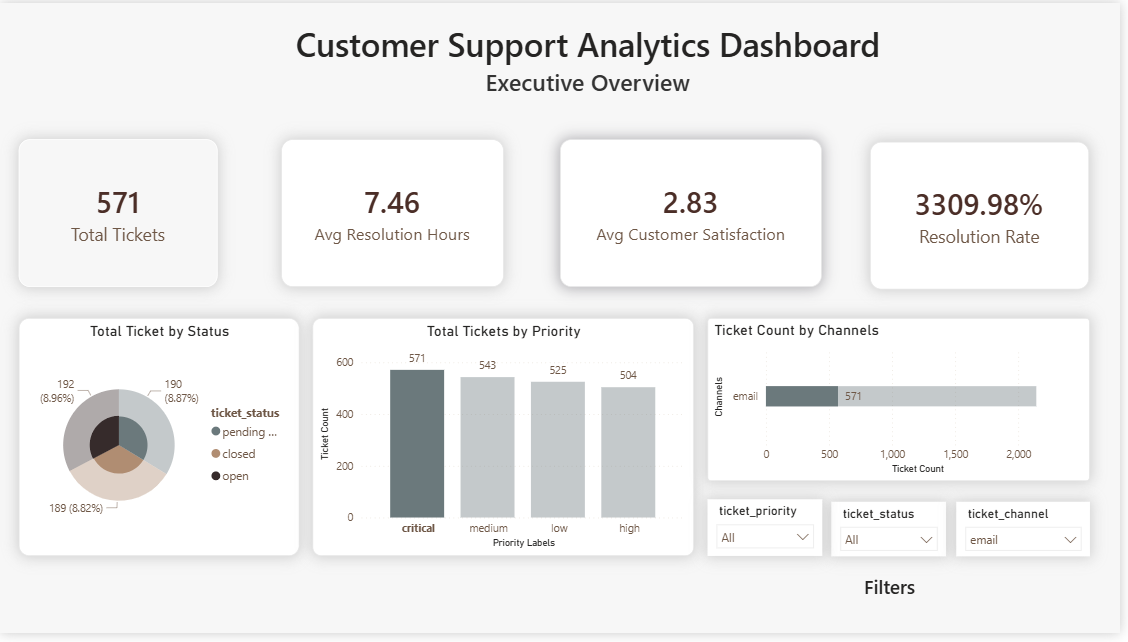

This screenshot's page, from the dashboard's own definition file:
{"tool":"powerbi","page":{"name":"Executive Overview","canvas":[1280,720],"ordinal":0},"visuals":[{"type":"cardVisual","fields":{"Data":["CountNonNull(warehouse fact_support_tickets.ticket_id)"]},"box":[21.7,155.6,227.4,169.2],"z":0},{"type":"cardVisual","fields":{"Data":["Avg(warehouse fact_support_tickets.resolution_hours)"]},"box":[320.7,155.6,254.4,169.2],"z":1000},{"type":"cardVisual","fields":{"Data":["Avg(warehouse fact_support_tickets.customer_satisfaction_rating)"]},"box":[640.1,155.6,299.1,169.2],"z":2000},{"type":"cardVisual","fields":{"Data":["analytics monthly_ticket_trends.Resolution Rate"]},"box":[994.7,158.3,250.4,169.2],"z":3000},{"type":"textbox","box":[263.5,17.8,817.8,138.6],"z":4000},{"type":"pieChart","title":"Total Ticket by Status","fields":{"Category":["warehouse fact_support_tickets.ticket_status"],"Y":["CountNonNull(warehouse fact_support_tickets.ticket_id)"]},"box":[21.7,360,320.7,272],"z":5000},{"type":"clusteredColumnChart","title":"Total Tickets by Priority","fields":{"Category":["warehouse fact_support_tickets.ticket_priority"],"Y":["CountNonNull(warehouse fact_support_tickets.ticket_id)"]},"box":[357.3,360,435.8,272],"z":6000},{"type":"barChart","fields":{"Y":["CountNonNull(warehouse fact_support_tickets.ticket_id)"],"Category":["warehouse fact_support_tickets.ticket_channel"]},"box":[808,360,437.1,186.8],"z":7000},{"type":"slicer","fields":{"Values":["warehouse fact_support_tickets.ticket_status"]},"box":[950.1,569.8,131.3,62.3],"z":8000},{"type":"slicer","fields":{"Values":["warehouse fact_support_tickets.ticket_priority"]},"box":[808,567.1,131.3,65],"z":9000},{"type":"slicer","fields":{"Values":["warehouse fact_support_tickets.ticket_channel"]},"box":[1092.2,569.8,152.9,62.3],"z":10000},{"type":"textbox","box":[927,646.9,178.6,43.3],"z":11000}]}

Visuals, with their boxes in screenshot pixels (x1, y1, x2, y2), scaled from the page's 1280x720 canvas onto the 1128x642 screenshot:
cardVisual - CountNonNull(warehouse fact_support_tickets.ticket_id): box=[19, 139, 220, 290]
cardVisual - Avg(warehouse fact_support_tickets.resolution_hours): box=[283, 139, 507, 290]
cardVisual - Avg(warehouse fact_support_tickets.customer_satisfaction_rating): box=[564, 139, 828, 290]
cardVisual - analytics monthly_ticket_trends.Resolution Rate: box=[877, 141, 1097, 292]
textbox: box=[232, 16, 953, 139]
"Total Ticket by Status" pieChart: box=[19, 321, 302, 564]
"Total Tickets by Priority" clusteredColumnChart: box=[315, 321, 699, 564]
barChart - CountNonNull(warehouse fact_support_tickets.ticket_id) x warehouse fact_support_tickets.ticket_channel: box=[712, 321, 1097, 488]
slicer - warehouse fact_support_tickets.ticket_status: box=[837, 508, 953, 564]
slicer - warehouse fact_support_tickets.ticket_priority: box=[712, 506, 828, 564]
slicer - warehouse fact_support_tickets.ticket_channel: box=[963, 508, 1097, 564]
textbox: box=[817, 577, 974, 615]
